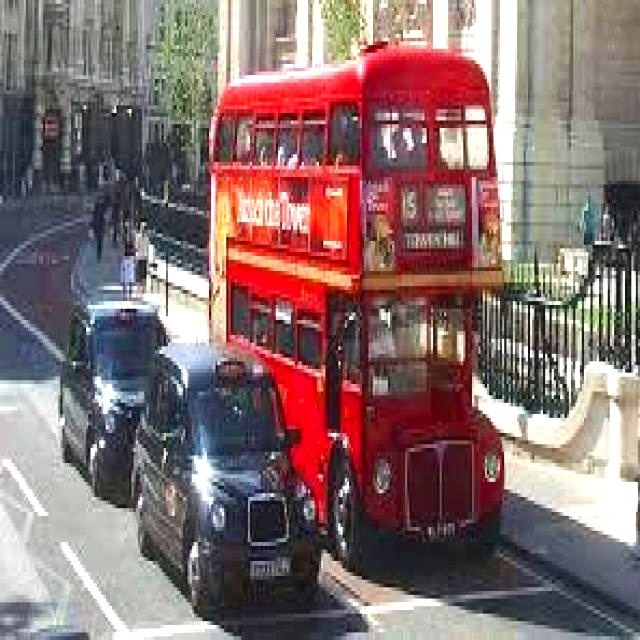bus: (183, 22, 541, 566)
car: (122, 337, 338, 611), (35, 274, 178, 495)
